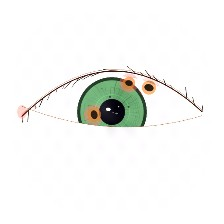foreign_body_visible: (110, 68, 148, 98)
